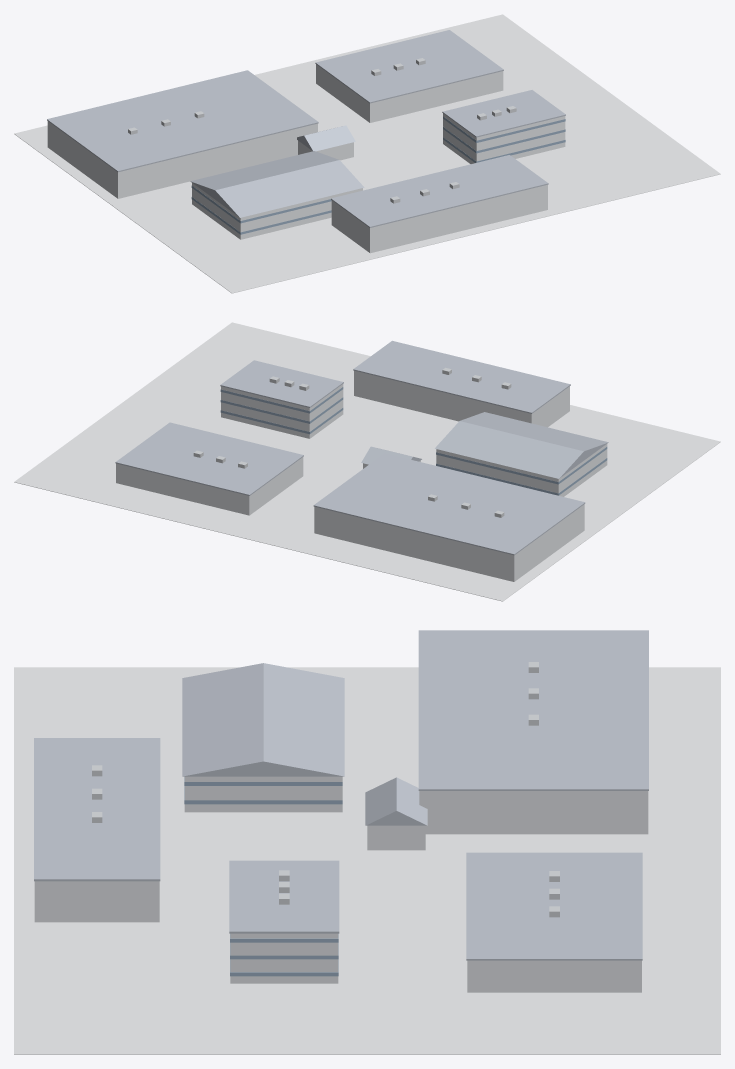
File: campus.glb
3 renders of one model, top to bottom at view 1: azimuth 30°, elevation 25°; view 2: azimuth 150°, elevation 25°; view 3: azimuth 270°, elevation 25°, orthographic. The views are drawn at different scales.
Visible parts, largest first — view 1: PARKING, ROOF-B-1, ROOF-B-2, ROOF-B-5, B-1_body, ROOF-B-4, B-5_body, B-2_body, B-3_body, B-4_body, ROOF-B-3, ROOF-B-6 (+1 smaller); view 2: PARKING, ROOF-B-1, ROOF-B-2, B-1_body, ROOF-B-5, ROOF-B-4, B-5_body, B-3_body, B-2_body, B-4_body, ROOF-B-3; view 3: PARKING, ROOF-B-1, ROOF-B-2, ROOF-B-5, ROOF-B-4, B-1_body, ROOF-B-3, B-4_body, B-2_body, B-3_body, B-5_body, ROOF-B-6 (+1 smaller).
Boxes of the visible parts, x1,y1,x2,y2 form: PARKING: [14, 14, 720, 293]; ROOF-B-1: [47, 70, 318, 172]; ROOF-B-2: [315, 30, 503, 103]; ROOF-B-5: [331, 155, 548, 227]; B-1_body: [47, 121, 317, 198]; ROOF-B-4: [190, 151, 364, 217]; B-5_body: [331, 184, 547, 253]; B-2_body: [316, 64, 503, 122]; B-3_body: [443, 113, 565, 163]; B-4_body: [191, 183, 362, 239]; ROOF-B-3: [442, 90, 565, 137]; ROOF-B-6: [297, 125, 355, 151]; PARKING: [14, 322, 720, 601]; ROOF-B-1: [313, 453, 585, 555]; ROOF-B-2: [115, 422, 303, 495]; B-1_body: [314, 504, 584, 581]; ROOF-B-5: [353, 340, 570, 413]; ROOF-B-4: [435, 412, 608, 478]; B-5_body: [354, 370, 569, 427]; B-3_body: [220, 384, 343, 438]; B-2_body: [116, 457, 303, 515]; B-4_body: [436, 444, 607, 496]; ROOF-B-3: [220, 360, 343, 407]; PARKING: [14, 667, 720, 1054]; ROOF-B-1: [418, 630, 648, 790]; ROOF-B-2: [466, 852, 642, 960]; ROOF-B-5: [34, 738, 160, 881]; ROOF-B-4: [182, 663, 344, 776]; B-1_body: [419, 791, 648, 834]; ROOF-B-3: [229, 860, 339, 933]; B-4_body: [184, 776, 342, 812]; B-2_body: [467, 960, 641, 992]; B-3_body: [230, 933, 338, 983]; B-5_body: [34, 881, 159, 922]; ROOF-B-6: [365, 777, 427, 825].
Size of the model in its own units: 220 by 15.56 by 170.
